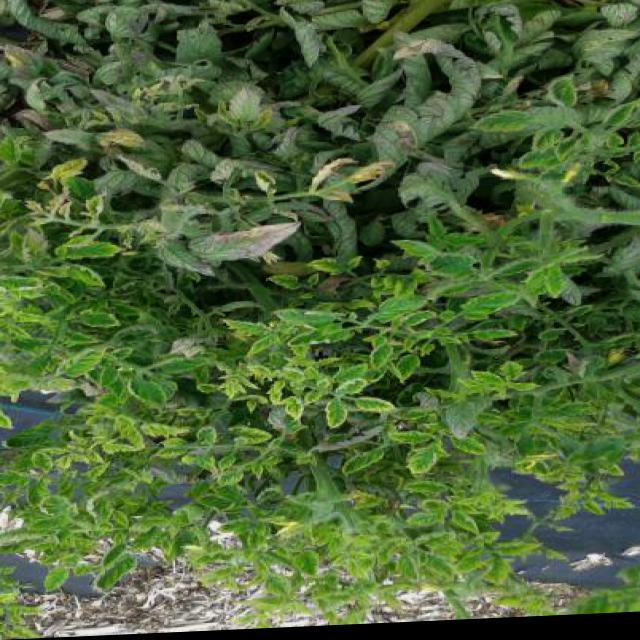Tomato healthy leaf: (446, 292, 526, 328), (404, 249, 480, 285), (54, 343, 116, 382), (46, 232, 124, 262), (86, 490, 137, 535), (382, 234, 450, 266), (359, 297, 432, 326), (81, 558, 142, 590), (130, 369, 176, 411), (442, 426, 488, 464), (70, 306, 132, 332), (538, 255, 568, 306), (414, 552, 456, 588), (406, 442, 448, 478), (269, 308, 339, 329), (283, 326, 339, 352), (406, 502, 458, 528), (157, 352, 215, 375), (60, 264, 110, 290), (137, 418, 193, 441), (442, 515, 484, 545), (246, 276, 308, 296), (215, 317, 269, 339), (240, 334, 282, 362), (27, 441, 59, 476), (207, 516, 261, 536), (38, 494, 80, 519), (382, 429, 432, 450), (318, 401, 351, 432), (304, 260, 352, 281), (486, 556, 514, 592), (288, 552, 323, 580), (464, 372, 510, 393), (38, 566, 75, 592), (365, 342, 398, 370), (232, 423, 270, 447), (328, 377, 366, 401), (402, 482, 456, 498), (278, 398, 308, 426), (395, 358, 422, 388), (352, 396, 396, 414), (214, 468, 244, 490)
